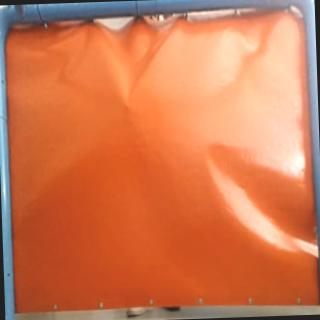Hit-hRxx: (120, 95, 136, 115)
